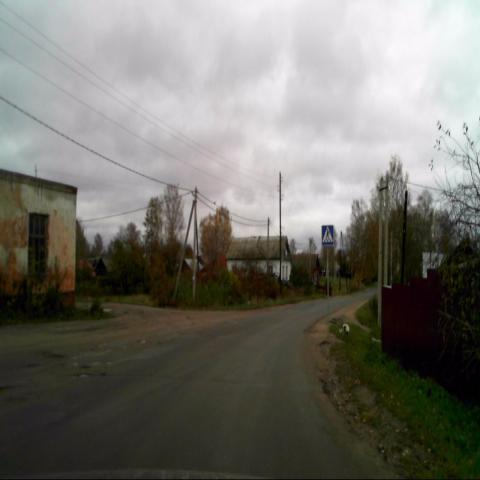5_19_1: (322, 224, 333, 246)
